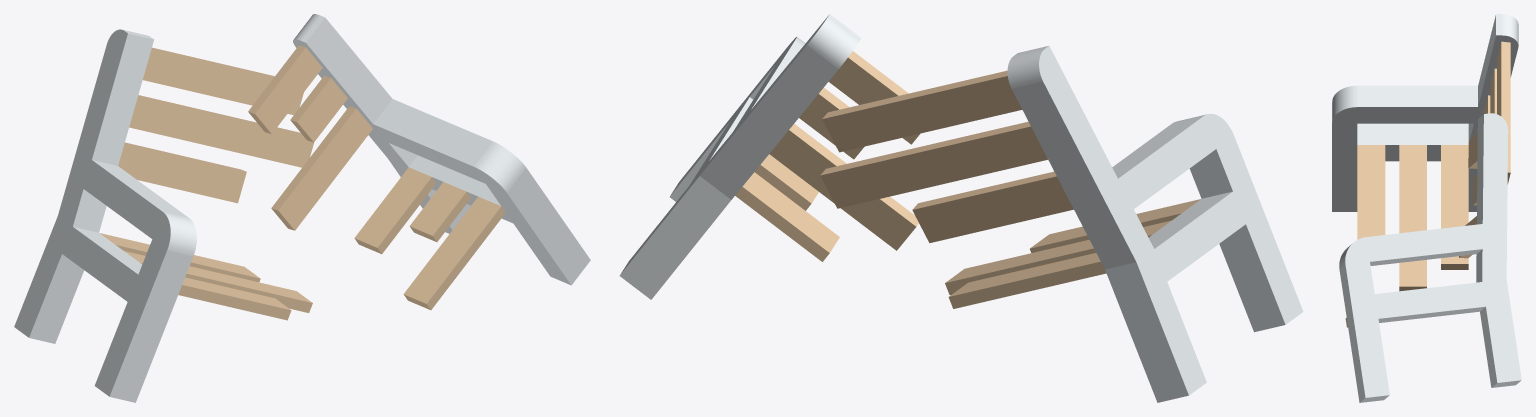
File: benchBroken.glb
The picture shows the model from 3 angles, left to right: view 1: azimuth 30°, elevation 25°; view 2: azimuth 150°, elevation 25°; view 3: azimuth 270°, elevation 25°; orthographic projection. The views are drawn at different scales.
Visible parts, largest first — view 1: benchBroken %8angles(Clone); view 2: benchBroken %8angles(Clone); view 3: benchBroken %8angles(Clone).
Boxes of the visible parts, left/top/right/bottom form: benchBroken %8angles(Clone): left=14, top=14, right=590, bottom=402; benchBroken %8angles(Clone): left=619, top=14, right=1303, bottom=402; benchBroken %8angles(Clone): left=1332, top=14, right=1521, bottom=402.
Size of the model in its own units: 0.9902 by 0.5319 by 0.3829.
